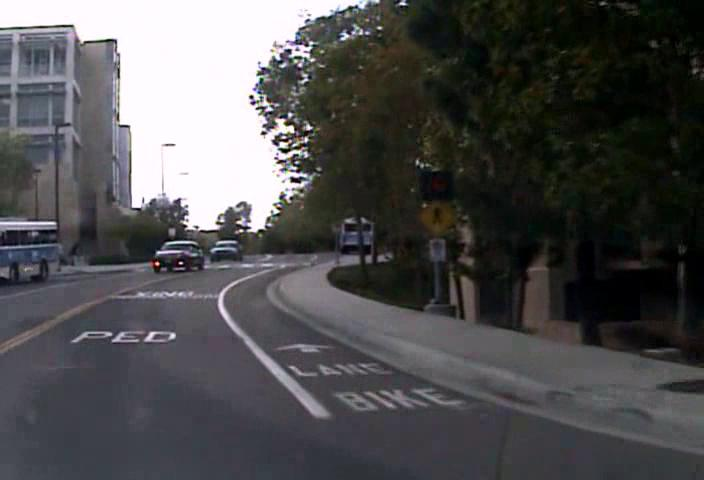pedestrianCrossing: (417, 198, 456, 235)
